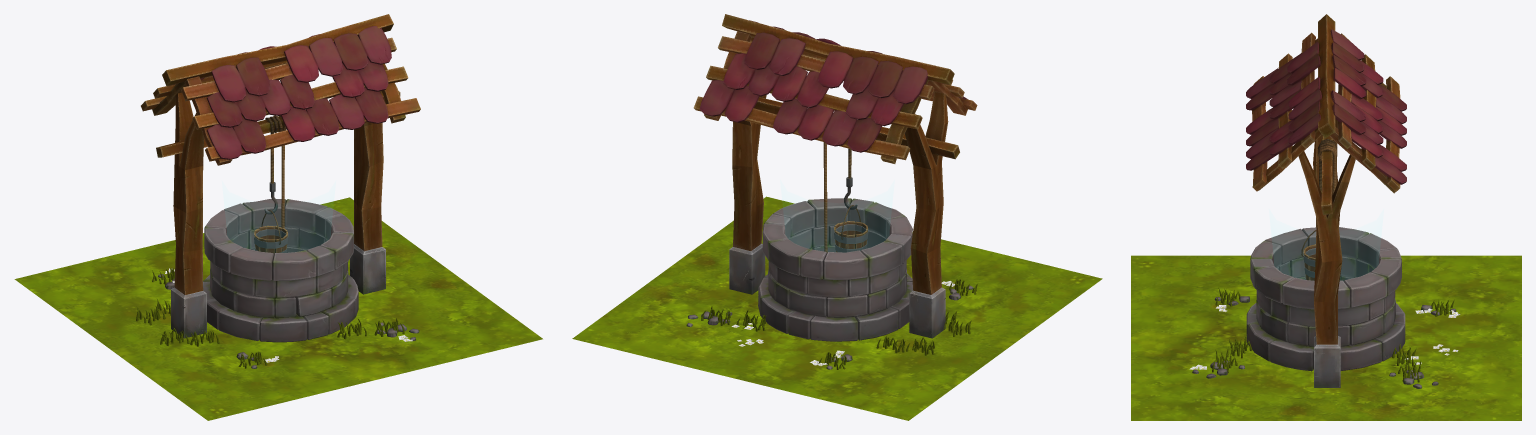
Rendered from moonwell-well.glb.
3 renders of one model, left to right at view 1: azimuth 30°, elevation 25°; view 2: azimuth 150°, elevation 25°; view 3: azimuth 270°, elevation 25°, orthographic.
Visible parts, largest first — view 1: Waterwell, Ground, Grass; view 2: Waterwell, Ground, Grass; view 3: Ground, Waterwell, Grass, Flowers.
Part boxes in pixels (left/top/right/bottom): Waterwell: left=141, top=14, right=420, bottom=342; Ground: left=14, top=197, right=542, bottom=420; Grass: left=136, top=268, right=419, bottom=368; Waterwell: left=693, top=14, right=977, bottom=341; Ground: left=572, top=196, right=1102, bottom=420; Grass: left=686, top=279, right=977, bottom=369; Ground: left=1131, top=255, right=1521, bottom=420; Waterwell: left=1246, top=14, right=1406, bottom=387; Grass: left=1192, top=288, right=1456, bottom=388; Flowers: left=1189, top=305, right=1460, bottom=369.
Size of the model in its own units: 1929 by 1487 by 1929.
9 materials, 9 textured.
